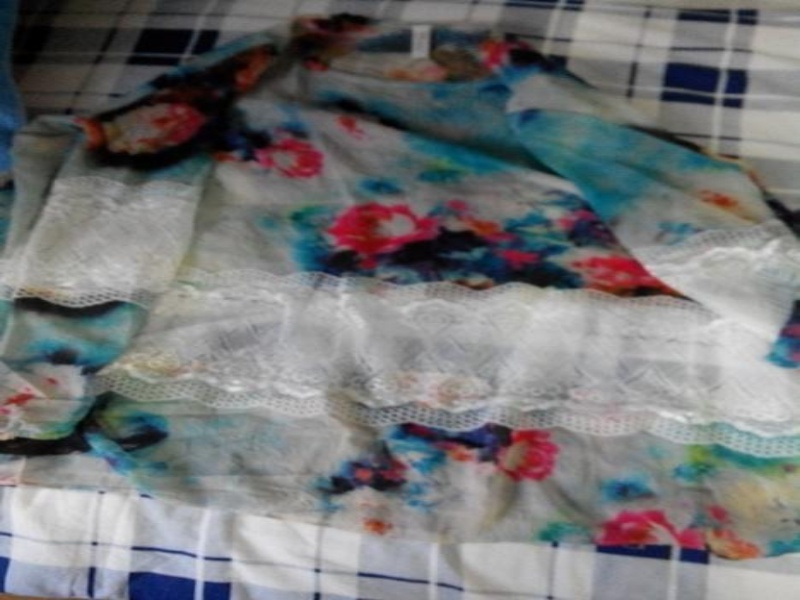long_sleeved_shirt: (0, 12, 797, 583)
